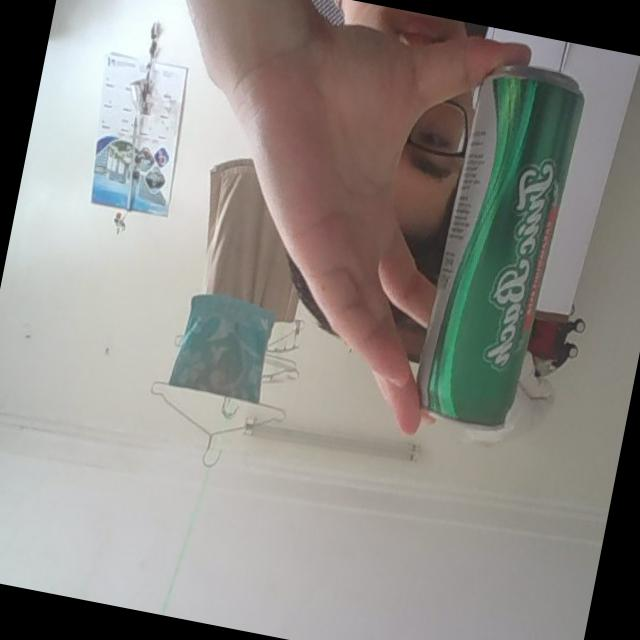Bia-Truc-Bach: (408, 59, 592, 442)
